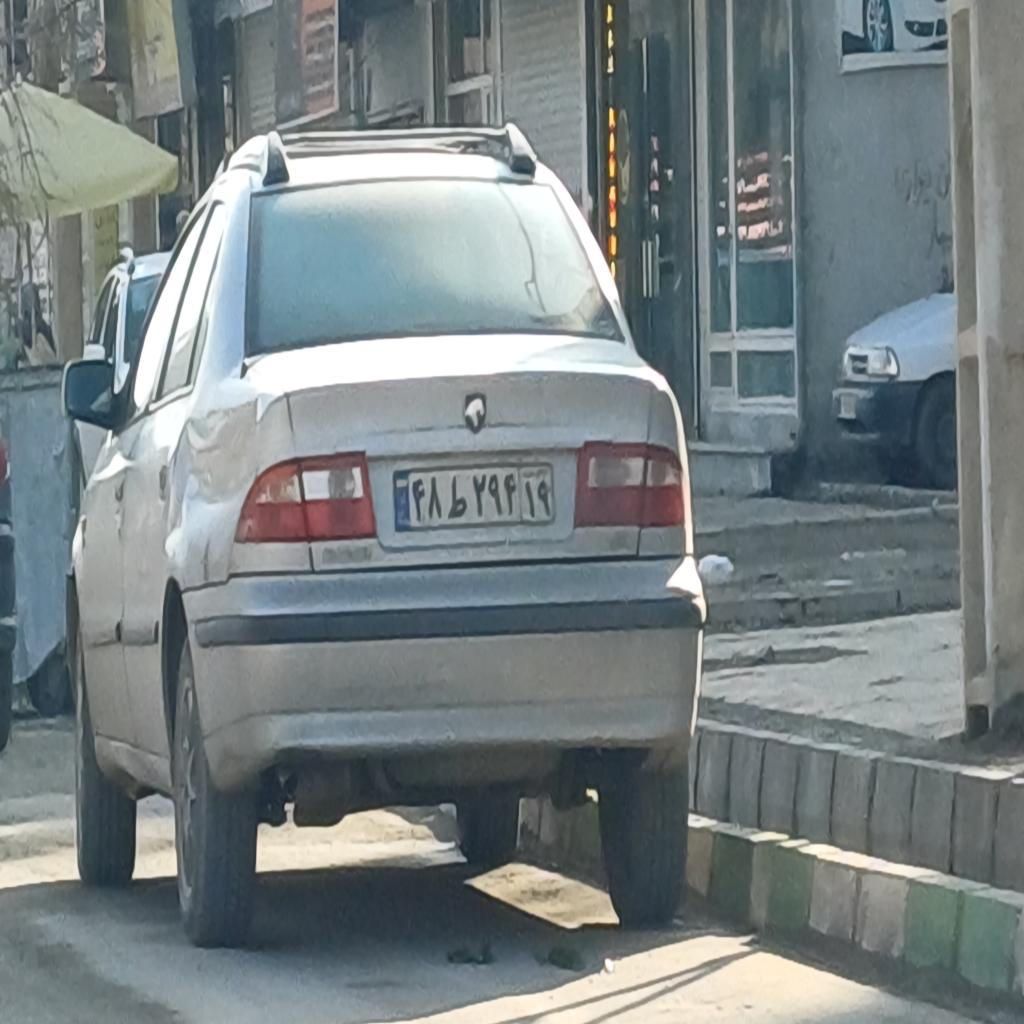Plates: (393, 458, 556, 534)
